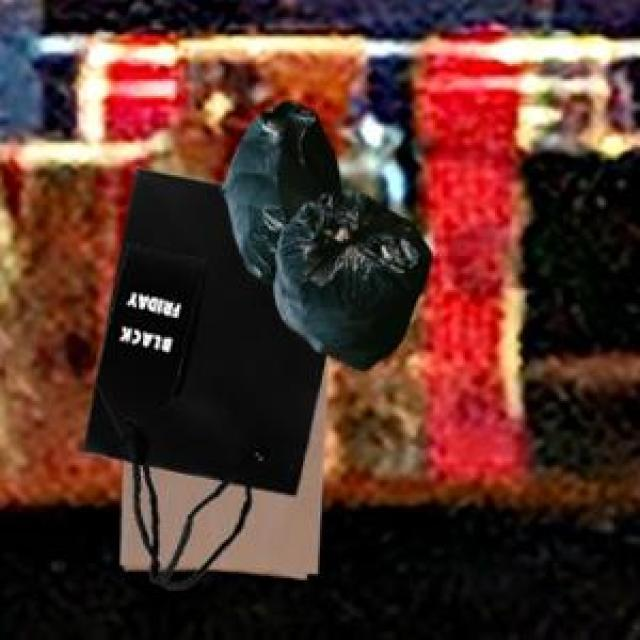miscellaneous trash: (218, 98, 427, 367)
paper: (79, 164, 322, 585), (117, 414, 320, 574)
